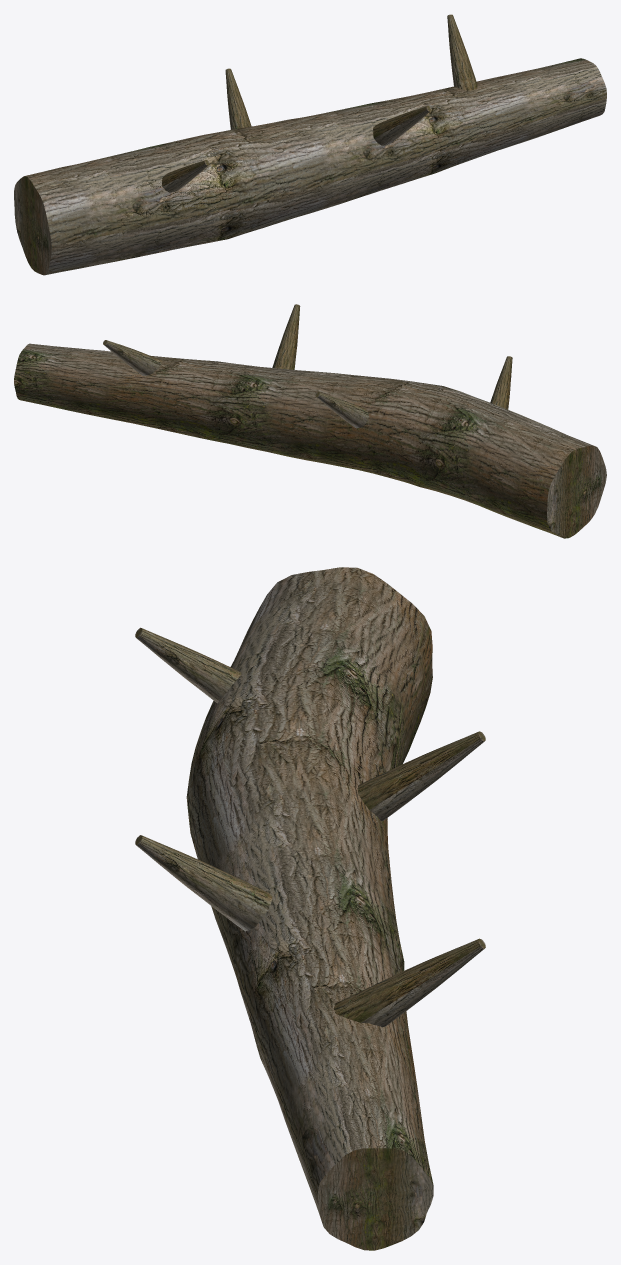
The model's file is fallen_log_lod0.gltf.
3 renders of one model, top to bottom at view 1: azimuth 30°, elevation 25°; view 2: azimuth 150°, elevation 25°; view 3: azimuth 270°, elevation 25°, orthographic. The views are drawn at different scales.
Parts seen in each view (by area): view 1: fallen_log_lod0; view 2: fallen_log_lod0; view 3: fallen_log_lod0.
Part boxes in pixels (x1=…): fallen_log_lod0: x1=14, y1=14, x2=606, y2=275; fallen_log_lod0: x1=14, y1=304, x2=606, y2=538; fallen_log_lod0: x1=135, y1=567, x2=485, y2=1250.
Size of the model in its own units: 2.59 by 0.5173 by 0.715.
Materials: 1 (1 with a texture image).
